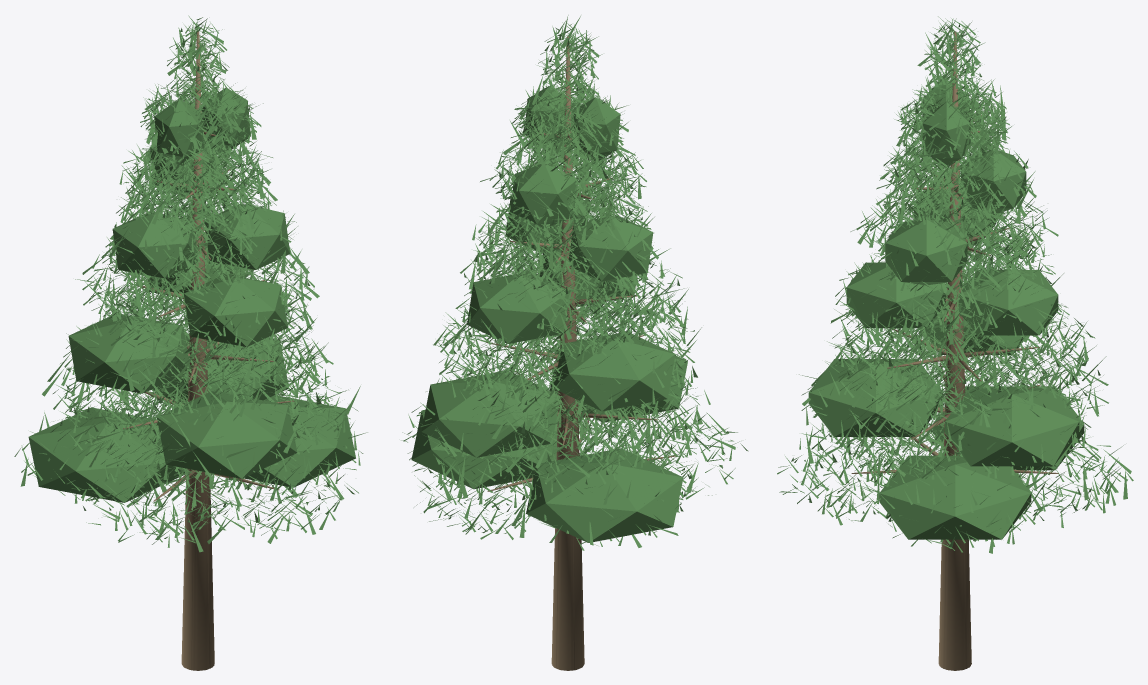
File: SummerPine.glb
3 views of the same model, side by side, from view 1: azimuth 30°, elevation 25°; view 2: azimuth 150°, elevation 25°; view 3: azimuth 270°, elevation 25° (orthographic).
Parts seen in each view (by area): view 1: LOD2_EnvLeafPine, LOD0_EnvLeafPine, LOD1_EnvLeafPine, LOD0_EnvBark, LOD1_EnvBark, LOD2_EnvBark; view 2: LOD2_EnvLeafPine, LOD0_EnvLeafPine, LOD1_EnvLeafPine, LOD0_EnvBark, LOD1_EnvBark, LOD2_EnvBark; view 3: LOD2_EnvLeafPine, LOD0_EnvLeafPine, LOD1_EnvLeafPine, LOD0_EnvBark, LOD1_EnvBark.
Part boxes in pixels (x1=…): LOD2_EnvLeafPine: x1=28, y1=87, x2=355, y2=502; LOD0_EnvLeafPine: x1=14, y1=17, x2=363, y2=547; LOD1_EnvLeafPine: x1=20, y1=15, x2=367, y2=552; LOD0_EnvBark: x1=123, y1=31, x2=294, y2=670; LOD1_EnvBark: x1=145, y1=32, x2=270, y2=670; LOD2_EnvBark: x1=191, y1=35, x2=210, y2=670; LOD2_EnvLeafPine: x1=411, y1=86, x2=687, y2=542; LOD0_EnvLeafPine: x1=401, y1=21, x2=746, y2=547; LOD1_EnvLeafPine: x1=412, y1=15, x2=748, y2=550; LOD0_EnvBark: x1=486, y1=36, x2=675, y2=670; LOD1_EnvBark: x1=487, y1=37, x2=674, y2=670; LOD2_EnvBark: x1=556, y1=43, x2=574, y2=670; LOD2_EnvLeafPine: x1=808, y1=80, x2=1084, y2=539; LOD0_EnvLeafPine: x1=777, y1=18, x2=1133, y2=550; LOD1_EnvLeafPine: x1=779, y1=16, x2=1131, y2=553; LOD0_EnvBark: x1=851, y1=31, x2=1058, y2=670; LOD1_EnvBark: x1=894, y1=31, x2=1057, y2=668.
Bounding box in the file's own units: 5.25 × 10.79 × 5.37.
